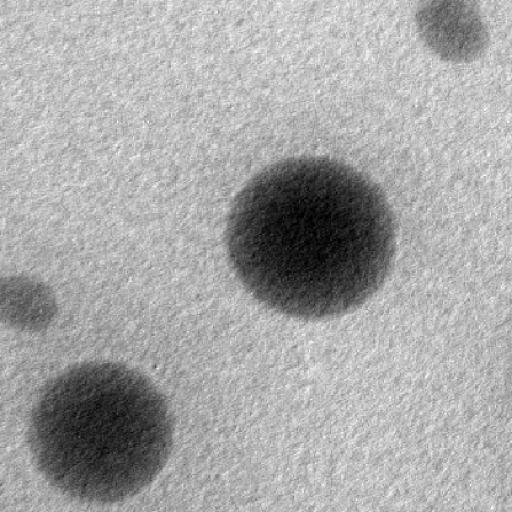Nanoparticles: (224, 155, 394, 317), (28, 359, 174, 505), (413, 0, 487, 62), (0, 272, 58, 332)
